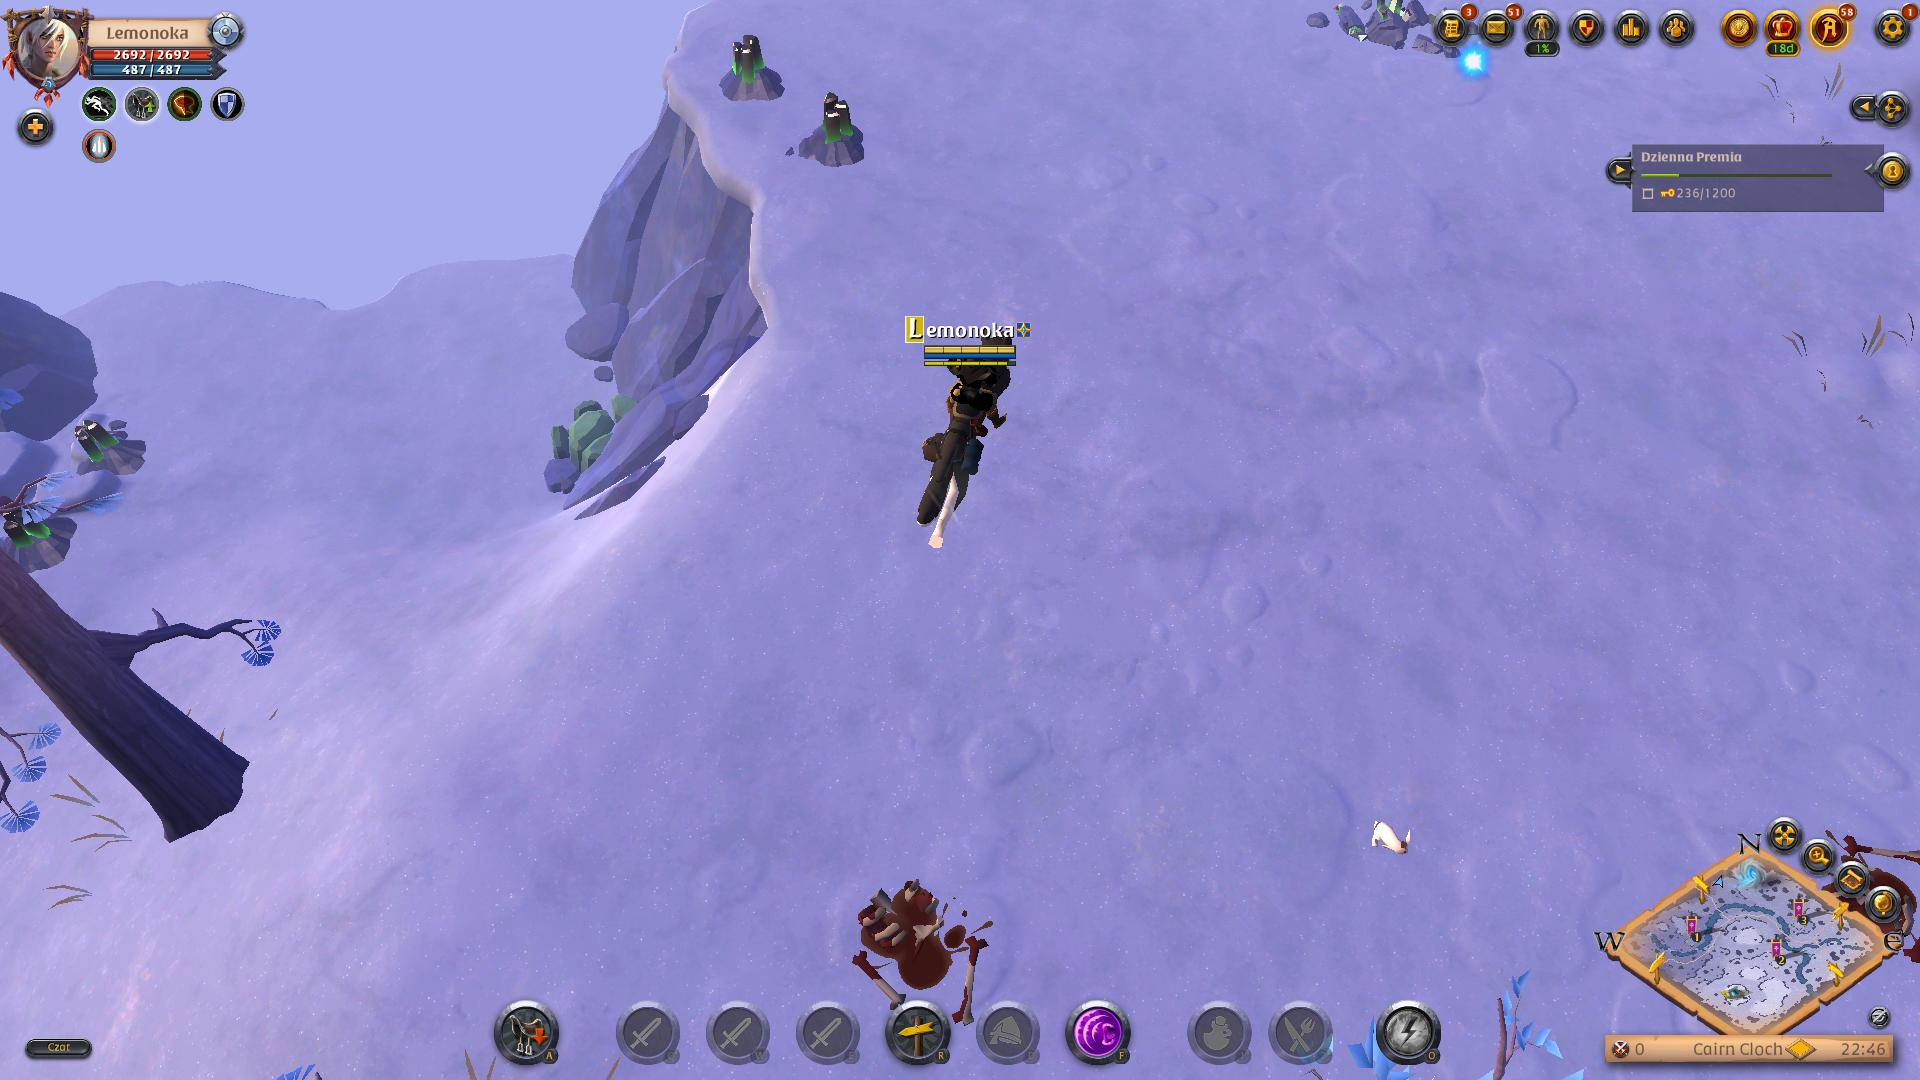ore tier 3: (796, 90, 876, 177), (67, 410, 145, 496), (715, 30, 786, 113), (8, 492, 74, 575)
